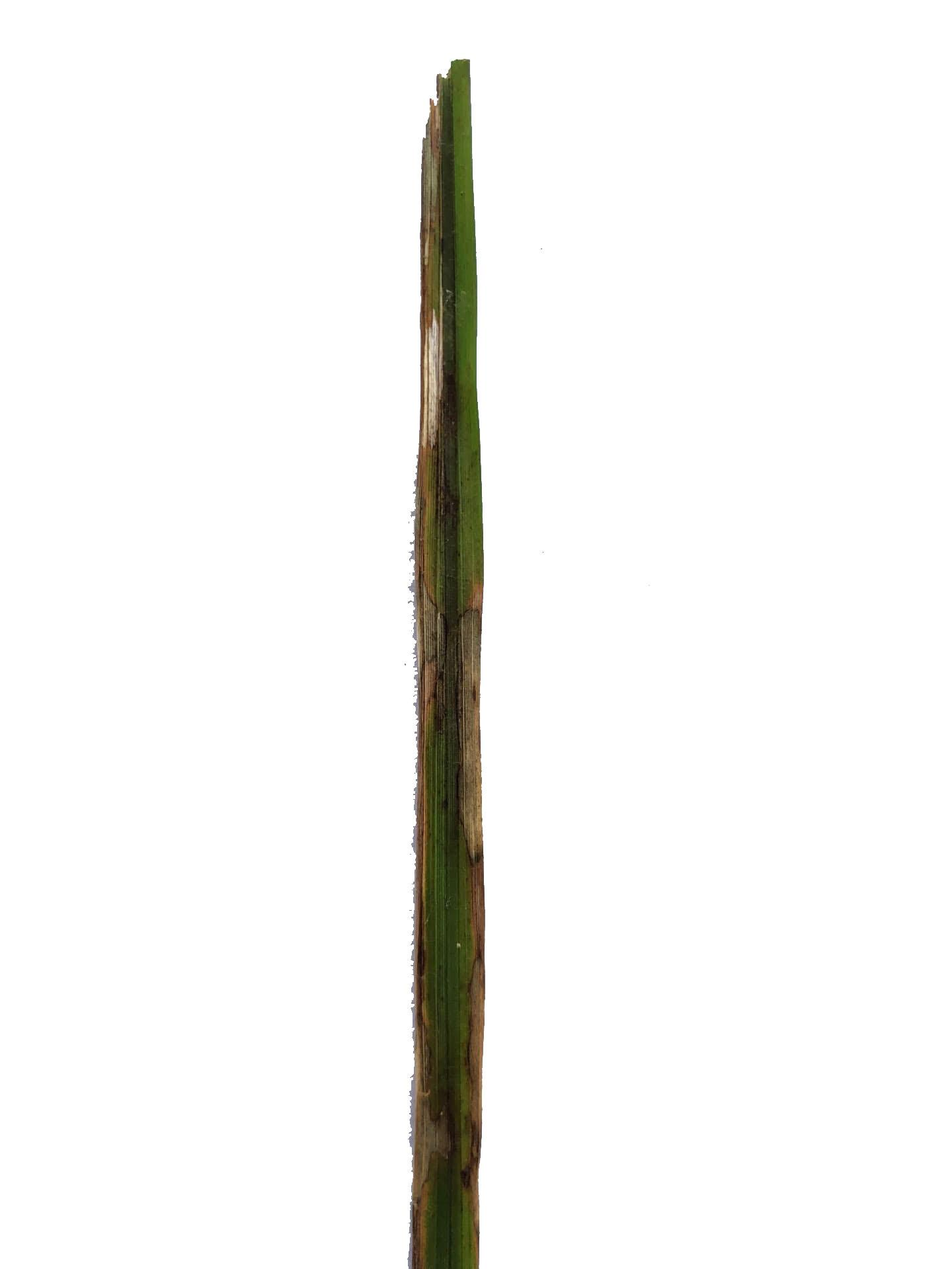Blight: (420, 109, 483, 1243)
